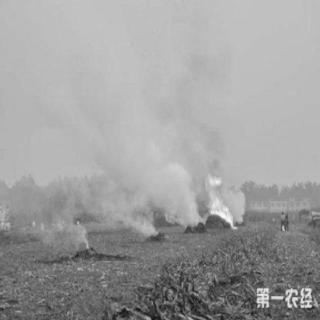Smoke: (129, 216, 153, 236), (73, 227, 91, 246)
